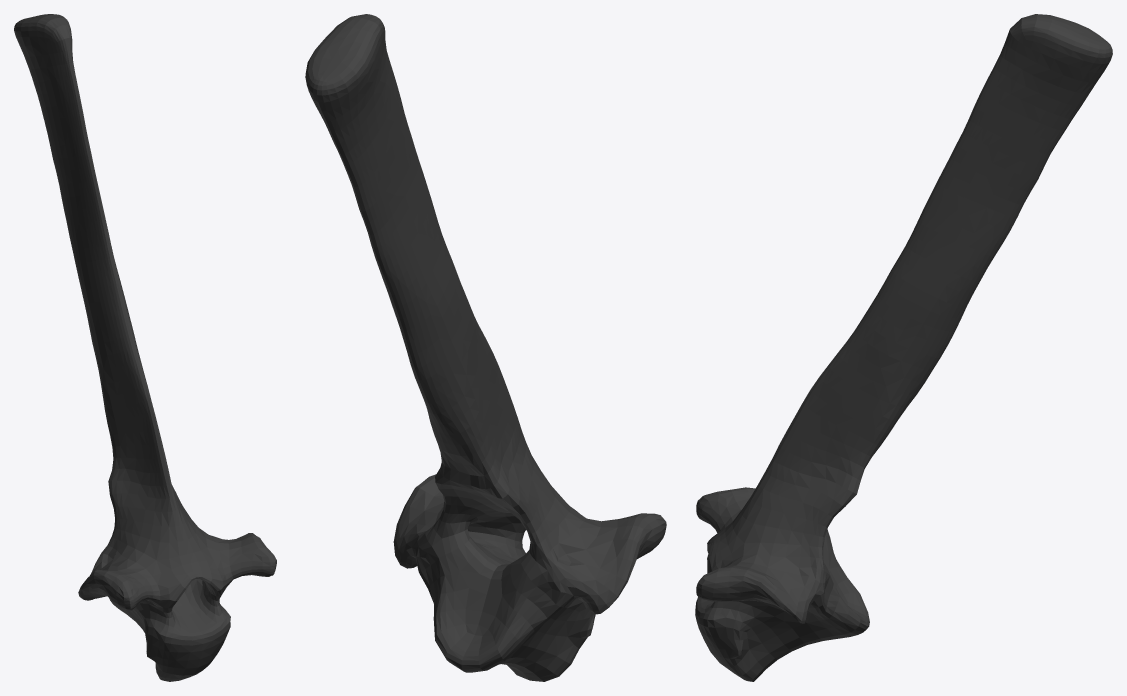
3 views of the same model, side by side, from view 1: azimuth 30°, elevation 25°; view 2: azimuth 150°, elevation 25°; view 3: azimuth 270°, elevation 25° (orthographic). The views are drawn at different scales.
Parts seen in each view (by area): view 1: b_T3_LO; view 2: b_T3_LO; view 3: b_T3_LO.
Boxes of the visible parts, x1,y1,x2,y2 form: b_T3_LO: (14,14,276,681); b_T3_LO: (305,14,666,681); b_T3_LO: (695,14,1112,681).
Size of the model in its own units: 0.000938 by 0.00306 by 0.00175.
Materials: 1 (1 with a texture image).
